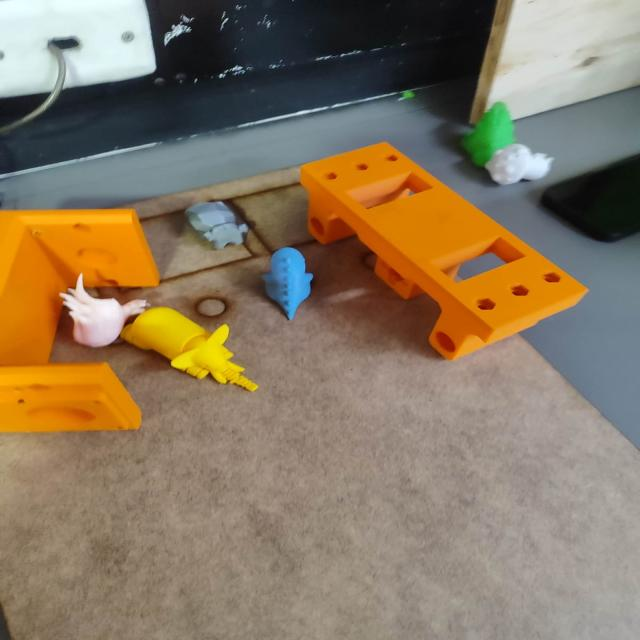DINO: (245, 239, 335, 334)
